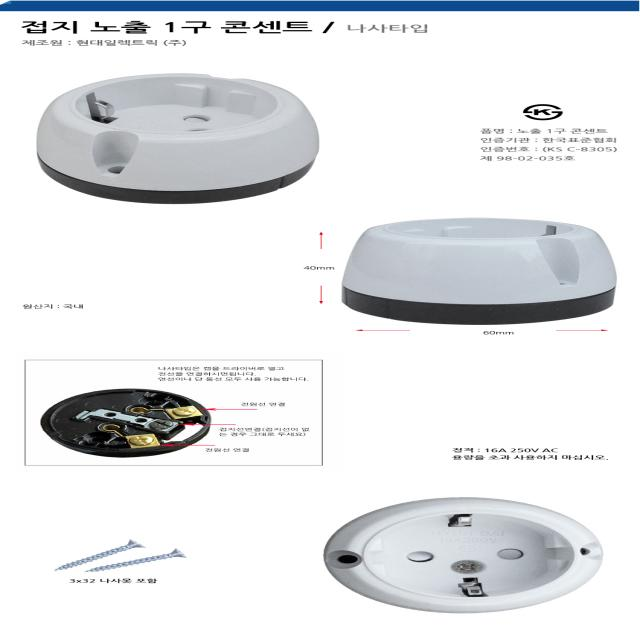typeb: (281, 480, 628, 632)
